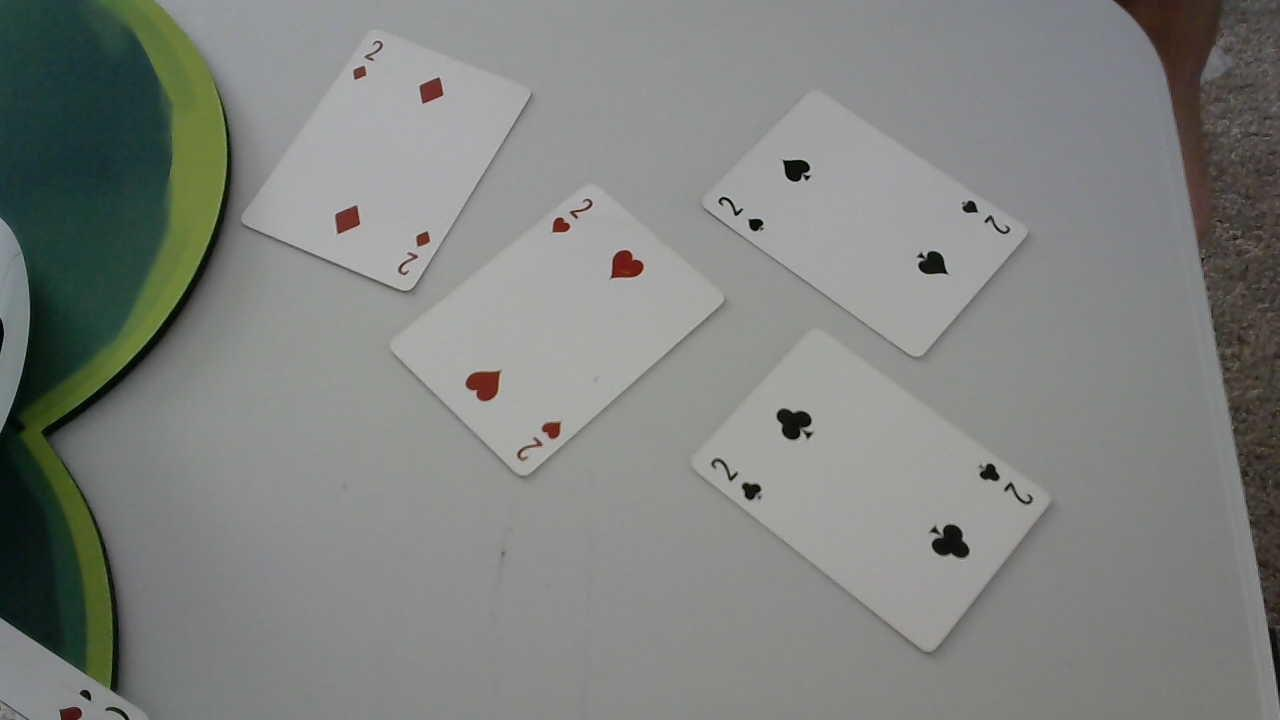2C: (973, 456, 1037, 508), (707, 451, 763, 504)
2D: (396, 227, 432, 280), (349, 36, 387, 84)
2H: (548, 191, 598, 237), (514, 419, 559, 467)
2S: (714, 192, 770, 236), (956, 196, 1013, 238)
